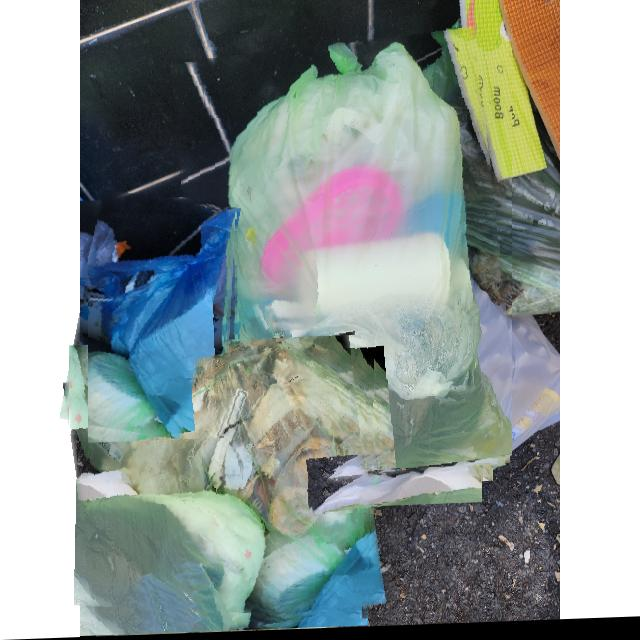general_trashbag: (210, 46, 511, 491), (69, 338, 370, 618)
other_trashbag: (88, 212, 235, 441), (313, 470, 481, 516)
